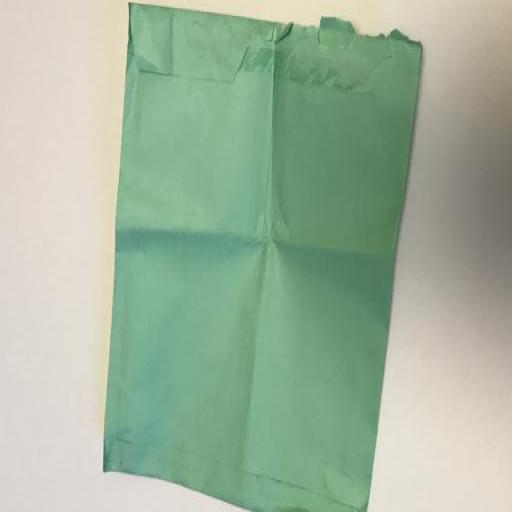waste: (93, 0, 416, 512)
